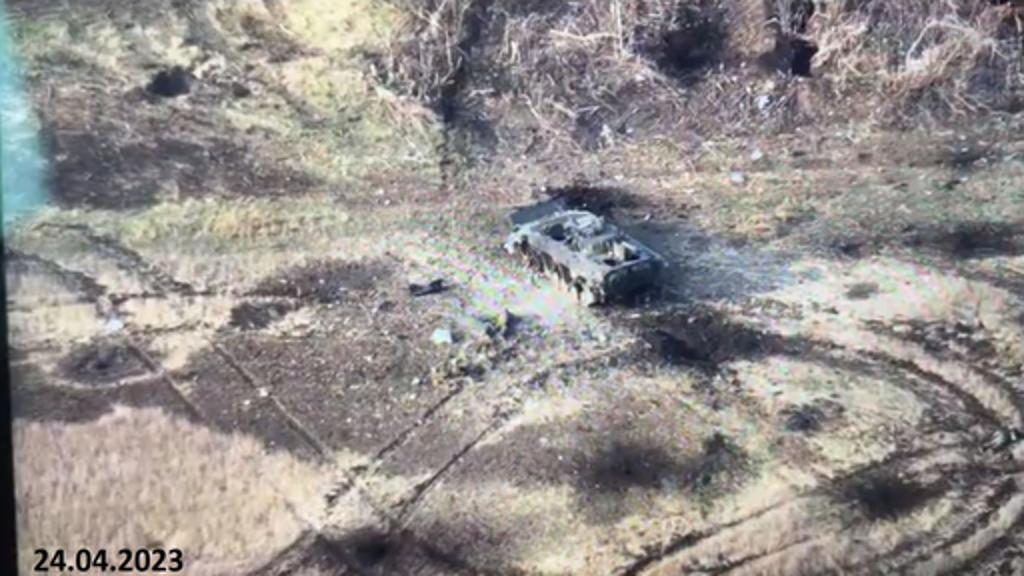APC-IFV: (506, 196, 666, 304)
